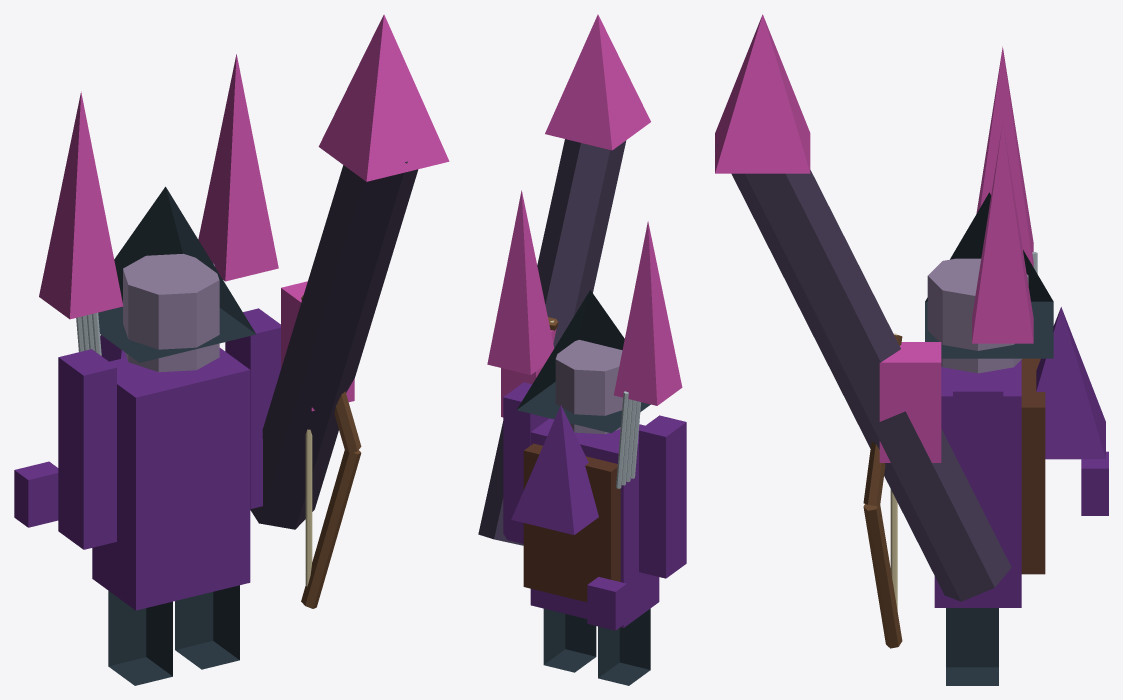
Rendered from anti-air-infantry.obj.
The picture shows the model from 3 angles, left to right: view 1: azimuth 30°, elevation 25°; view 2: azimuth 150°, elevation 25°; view 3: azimuth 270°, elevation 25°; orthographic projection. The views are drawn at different scales.
Parts seen in each view (by area): view 1: ranged; view 2: ranged; view 3: ranged.
Boxes of the visible parts, <box> form: ranged: <box>14,14,449,685</box>; ranged: <box>478,14,686,685</box>; ranged: <box>715,14,1108,685</box>.
Bounding box in the file's own units: 0.935 × 2.5 × 1.28.
